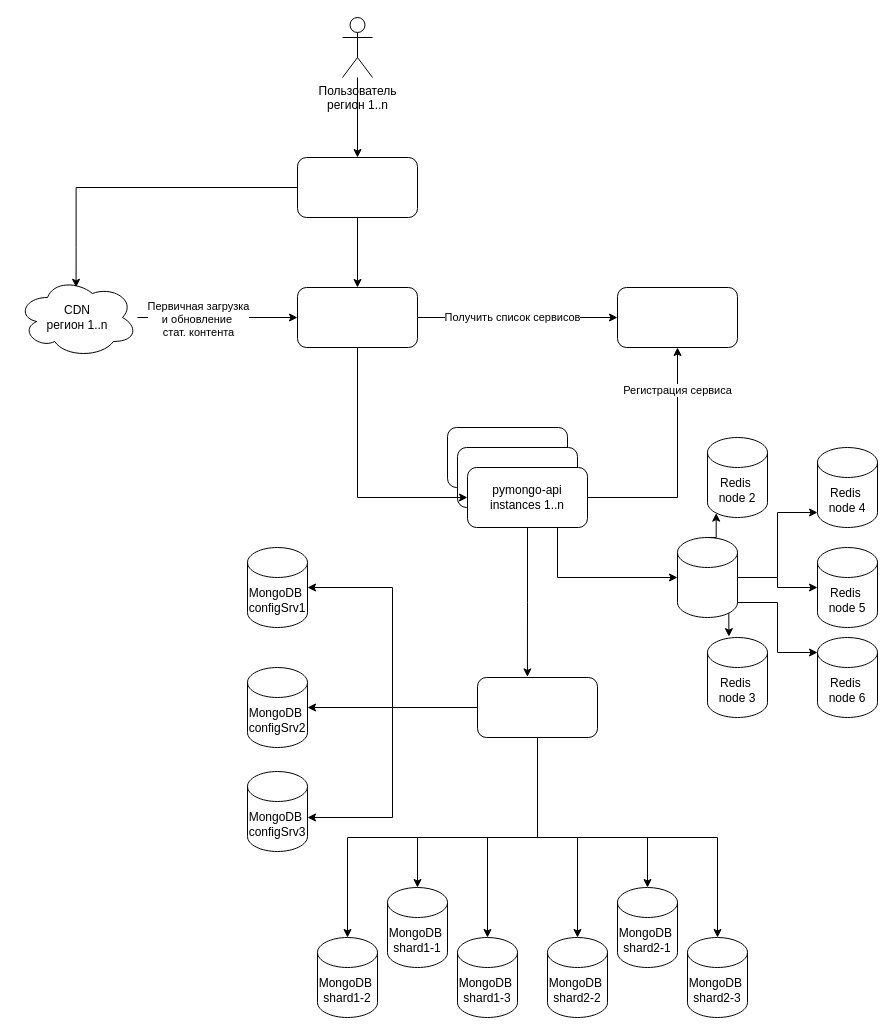
Image size: 895x1035. Some labels were removed from this diagram. Here are the shapes that lost their labels. From the top down, the box of each, then its label:
(296, 156, 418, 218): Web Site
(296, 286, 418, 348): API Gateway (APISIX)
(616, 286, 738, 348): Consul
(676, 536, 738, 618): Redis node 1
(476, 676, 598, 738): mongos_router
